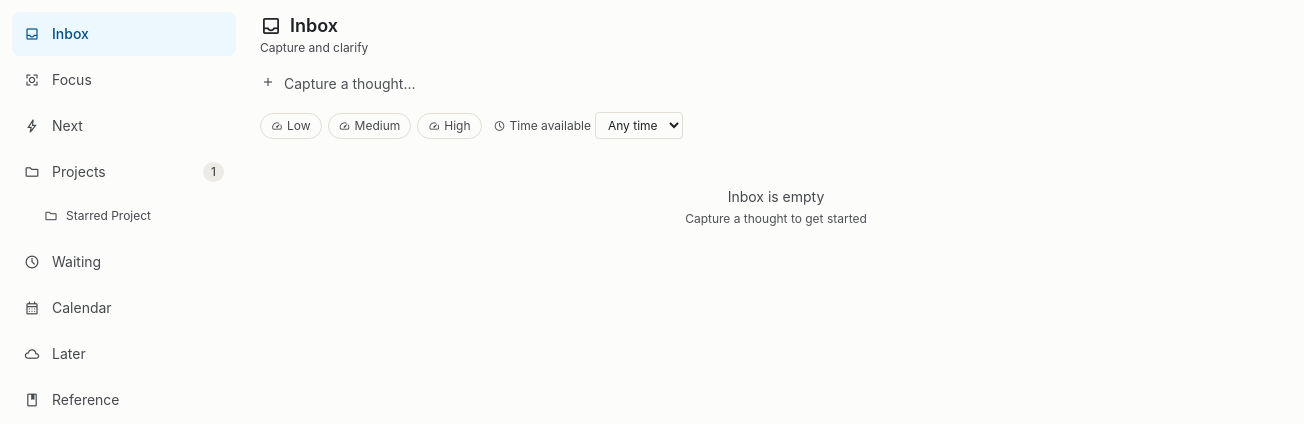
Test: BucketView › opens Projects and auto-expands clicked starred project from nav
The image size is (1304, 424).
Step 1. Click the text "Starred Project" → (108, 216), box [66, 208, 151, 223]
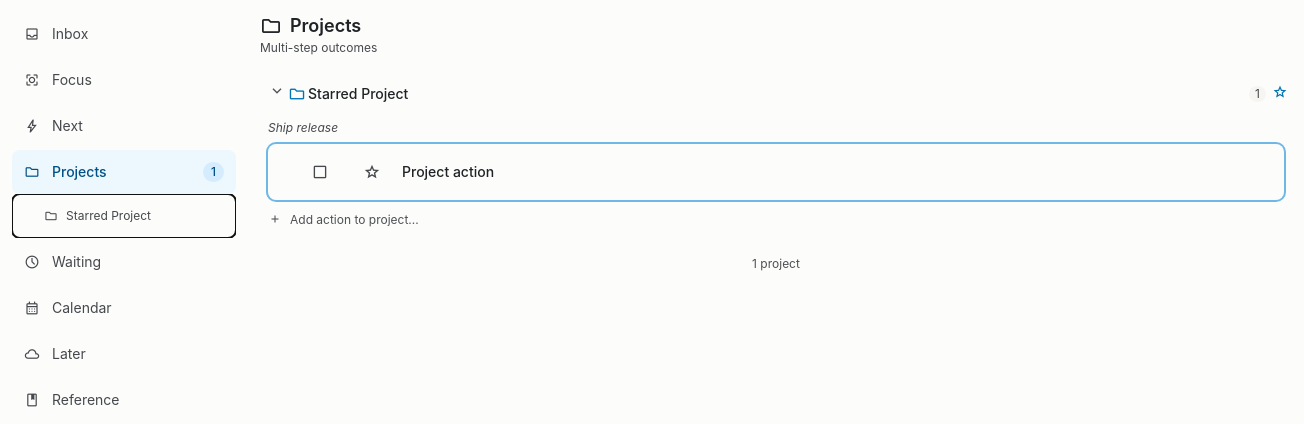
Expected: the button "Project action" is shown, [402, 162, 1204, 182]
